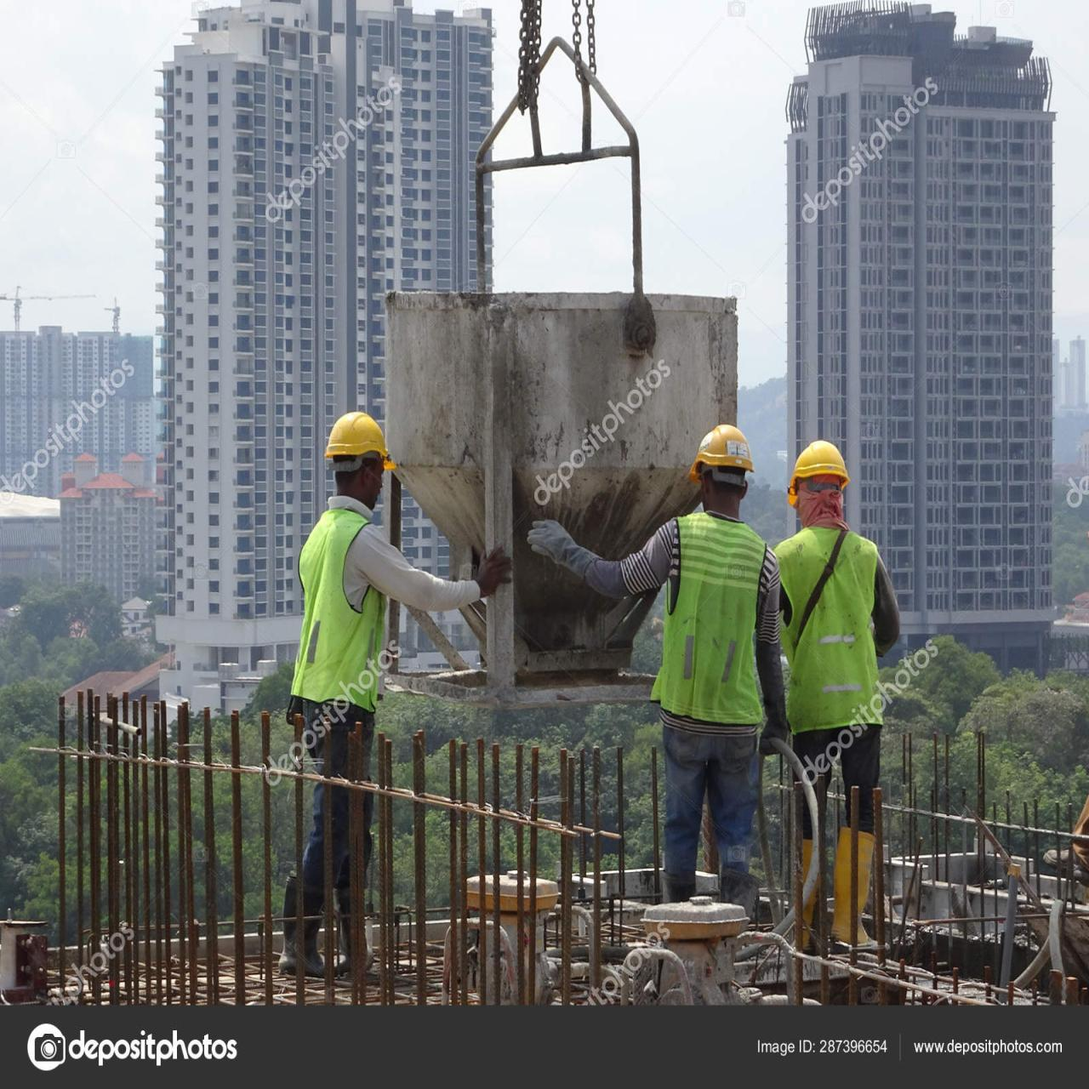Person: (527, 411, 781, 932), (262, 396, 513, 918), (758, 419, 910, 950)
Safety_Vest: (289, 496, 400, 713), (653, 517, 768, 714), (775, 527, 888, 709)
